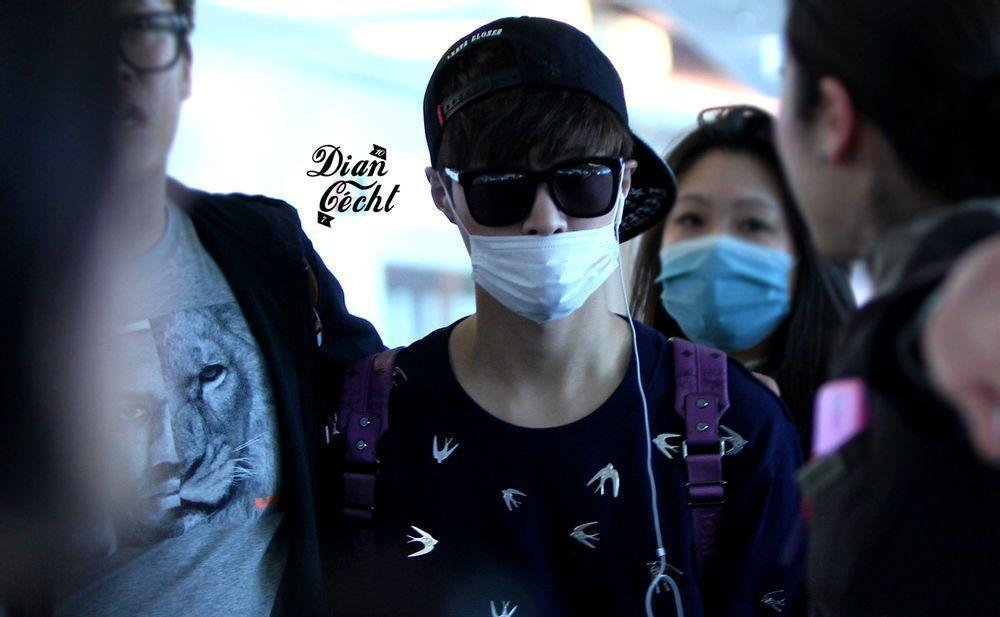OK: (661, 186, 801, 326)
WRONG: (466, 148, 624, 308)
